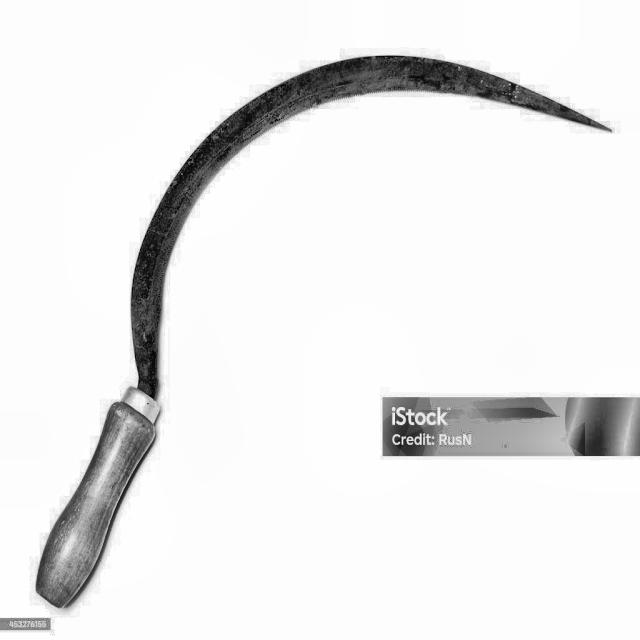celurit: (24, 47, 627, 616)
